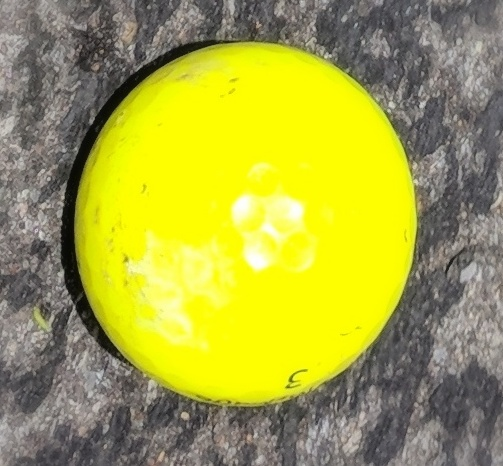ball: (71, 40, 420, 409)
